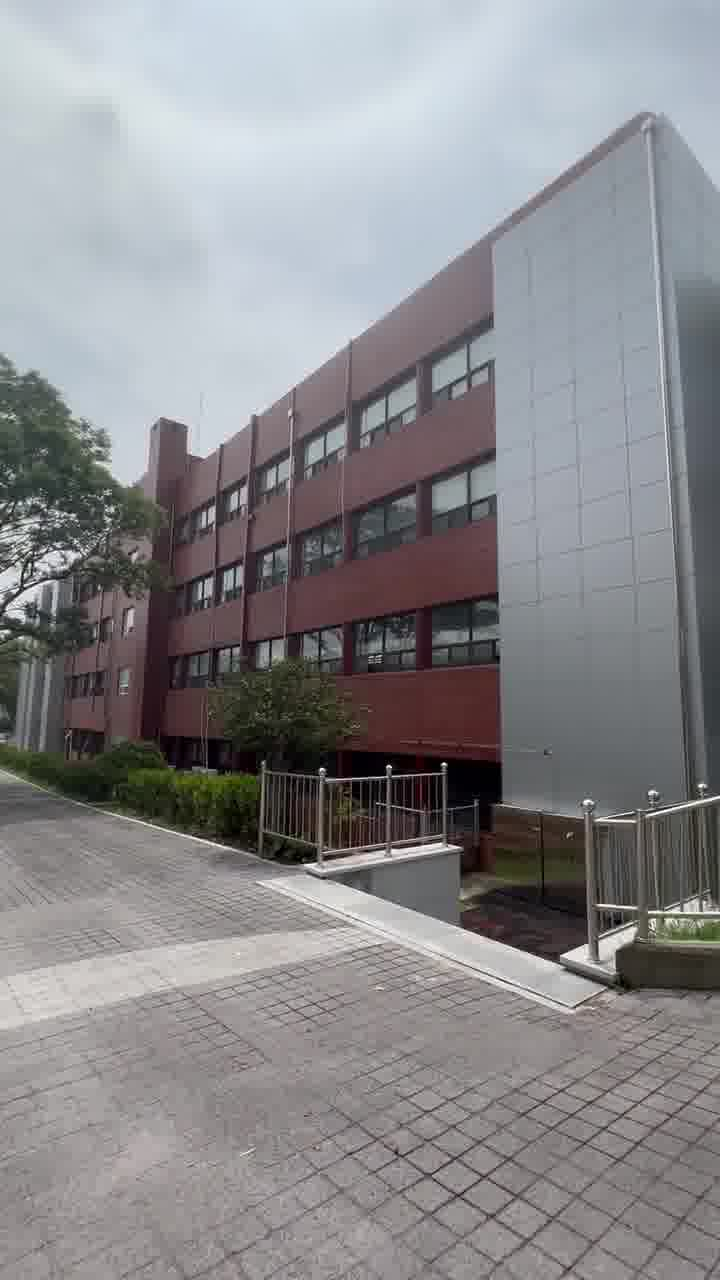low: (150, 308, 720, 722)
